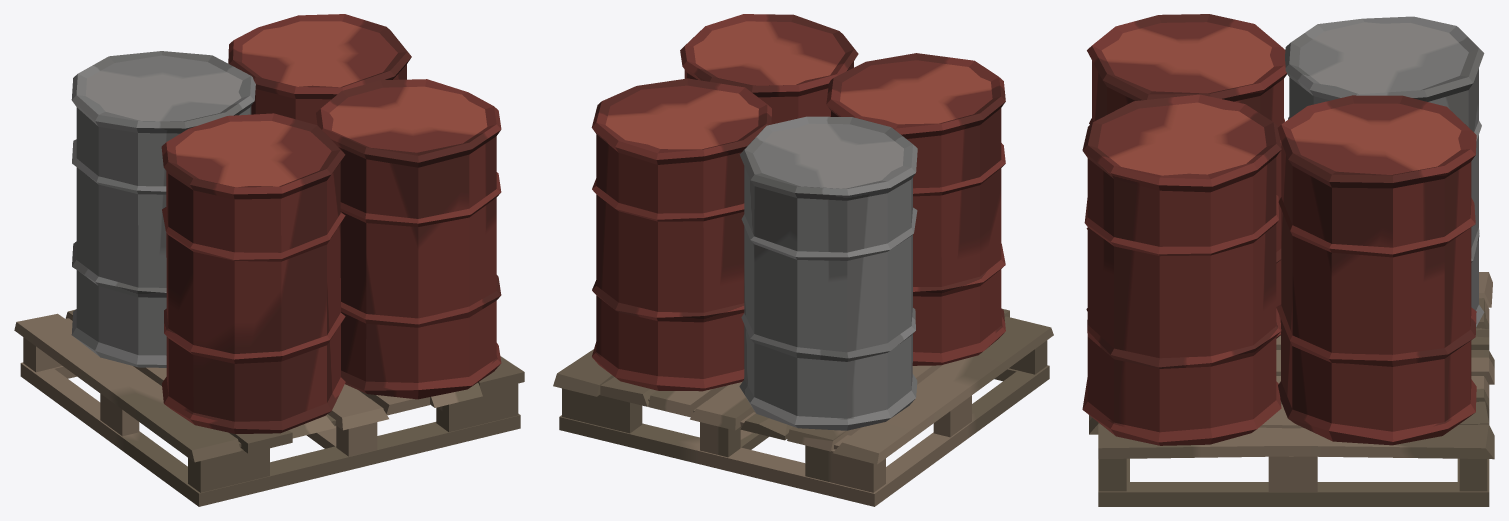
File: barrels.gltf
3 views of the same model, side by side, from view 1: azimuth 30°, elevation 25°; view 2: azimuth 150°, elevation 25°; view 3: azimuth 270°, elevation 25° (orthographic). The views are drawn at different scales.
Parts seen in each view (by area): view 1: SM_Prop_BarrelStack_01; view 2: SM_Prop_BarrelStack_01; view 3: SM_Prop_BarrelStack_01.
Boxes of the visible parts, <box> form: SM_Prop_BarrelStack_01: <box>14,14,524,506</box>; SM_Prop_BarrelStack_01: <box>553,14,1053,506</box>; SM_Prop_BarrelStack_01: <box>1082,14,1494,506</box>.
Size of the model in its own units: 1.47 by 1.28 by 1.44.
Materials: 1 (1 with a texture image).
